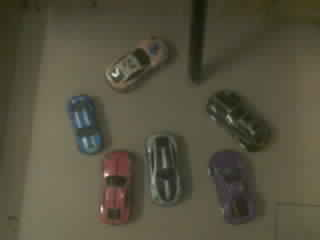Car: (207, 89, 269, 151), (209, 150, 254, 223), (106, 38, 166, 90), (145, 133, 182, 205), (100, 150, 132, 223), (69, 95, 101, 152)
